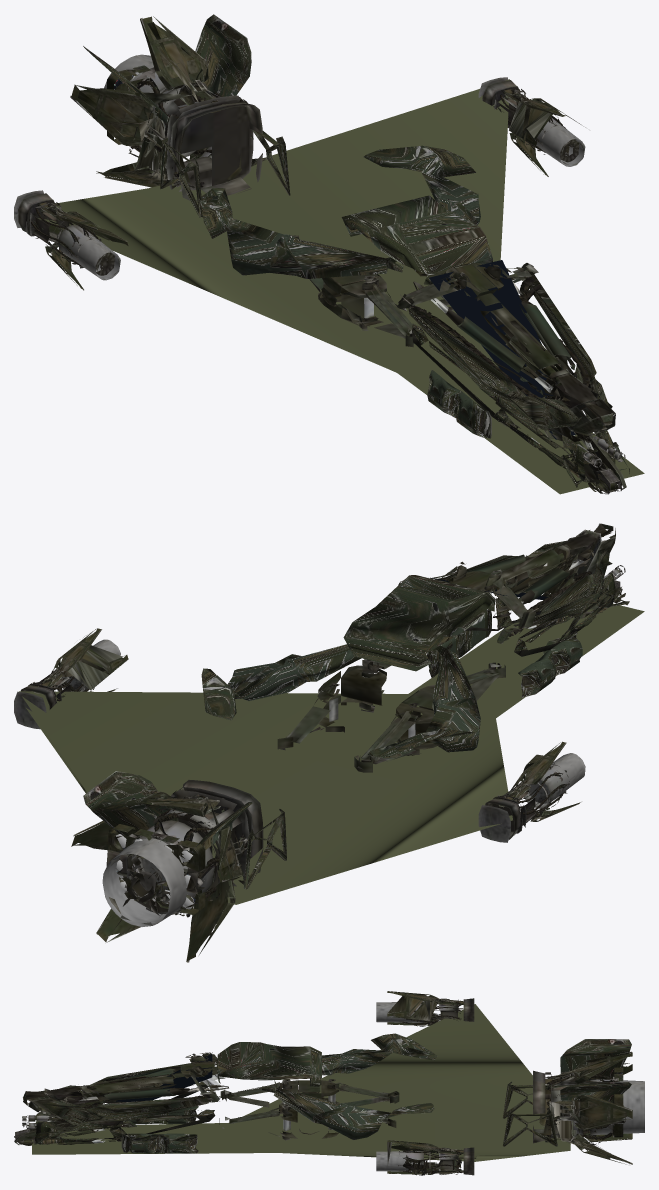
Rendered from prototype-furtif.glb.
3 views of the same model, one above another, from view 1: azimuth 30°, elevation 25°; view 2: azimuth 150°, elevation 25°; view 3: azimuth 270°, elevation 25° (orthographic). The views are drawn at different scales.
Parts seen in each view (by area): view 1: Misc_01_0; view 2: Misc_01_0; view 3: Misc_01_0.
Part boxes in pixels (x1=…): Misc_01_0: x1=14, y1=14, x2=644, y2=494; Misc_01_0: x1=14, y1=523, x2=644, y2=962; Misc_01_0: x1=14, y1=991, x2=644, y2=1175.
Size of the model in its own units: 11.78 by 3.4 by 19.06.
16 materials, 15 textured.
